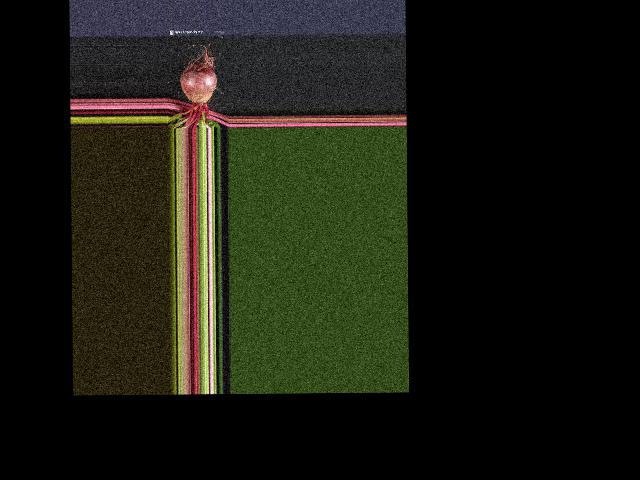beet: (167, 40, 218, 128)
